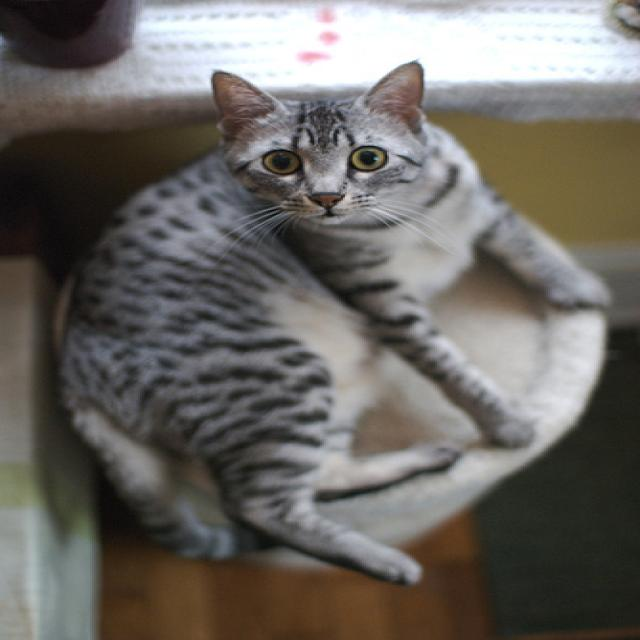cat: (209, 59, 429, 223)
